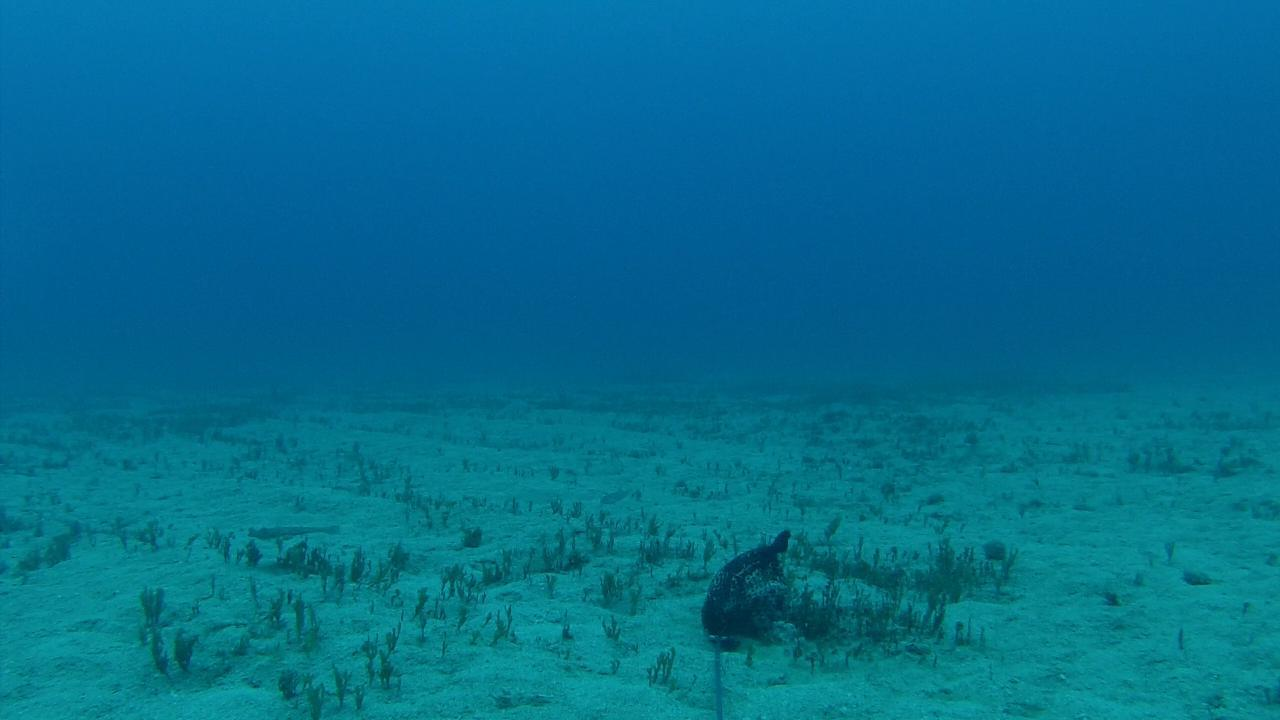bothus: (241, 518, 343, 541)
